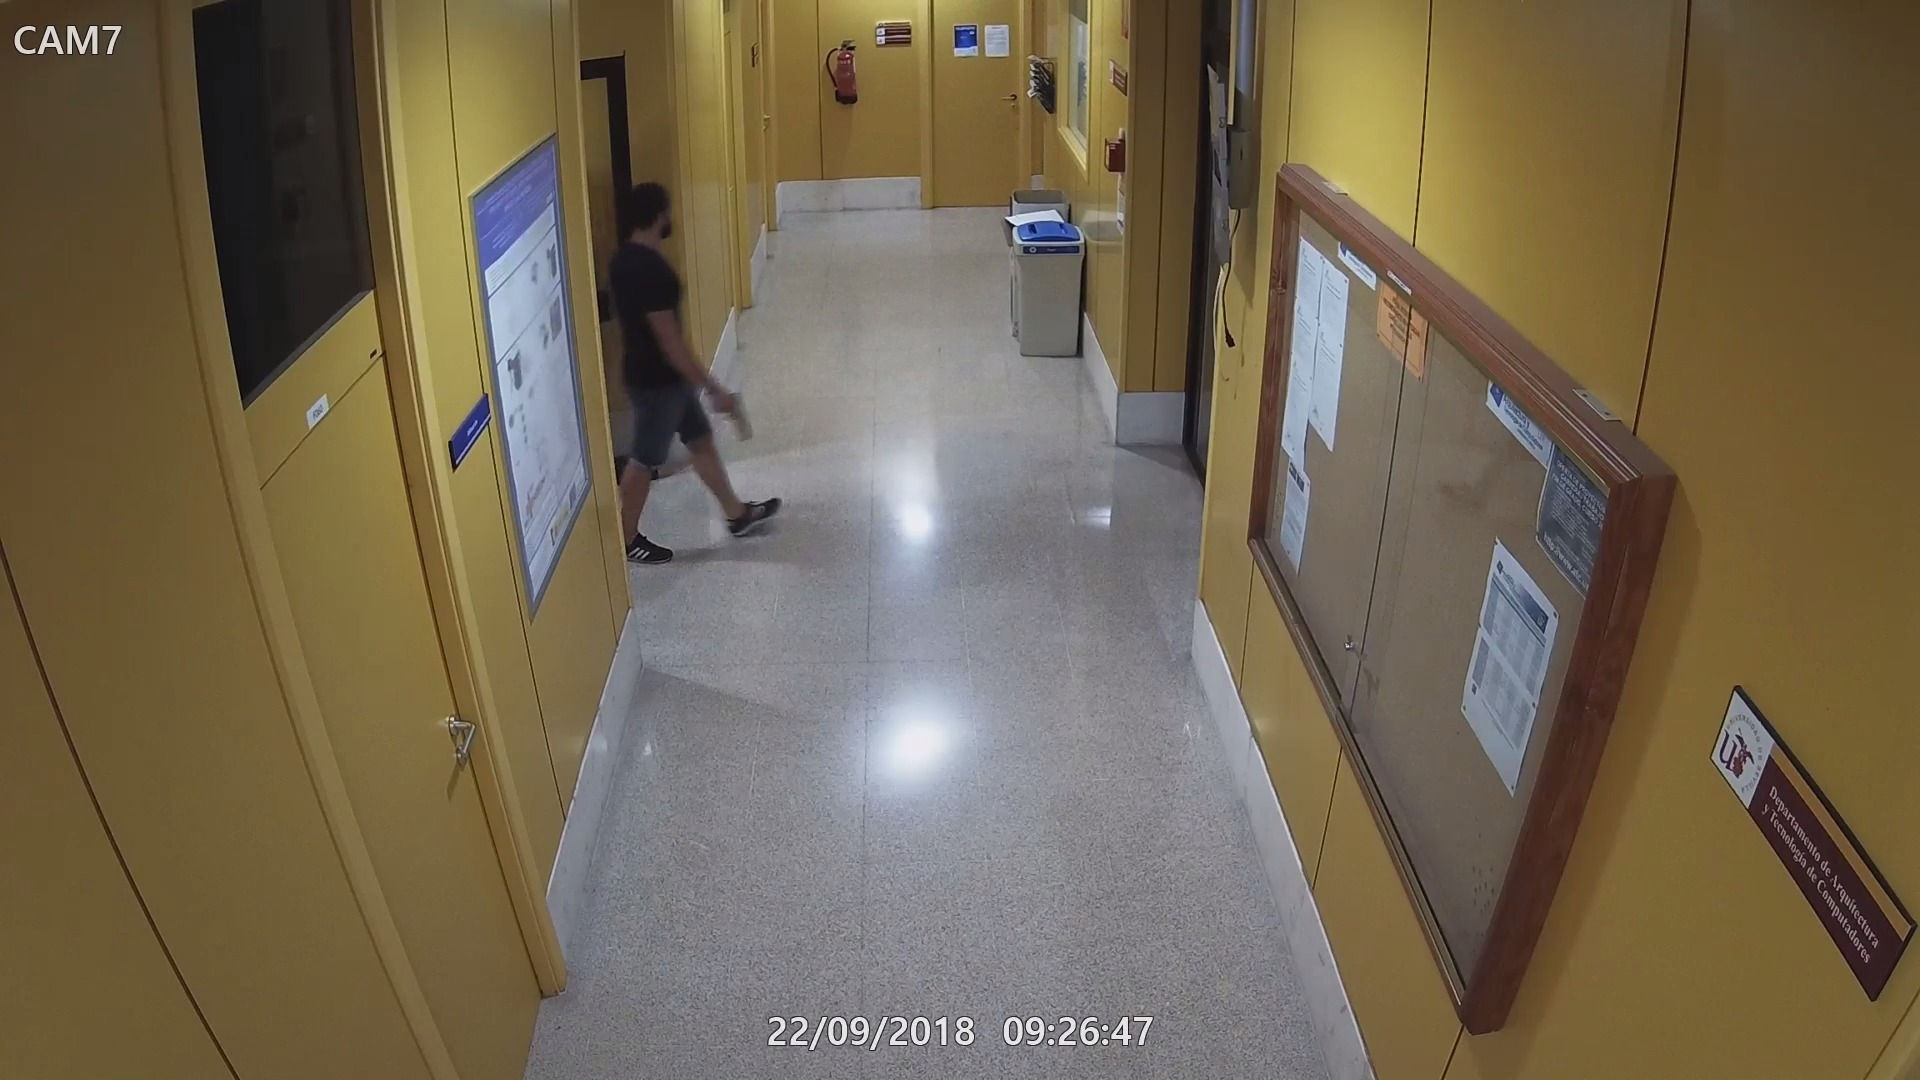Handgun: (707, 386, 756, 440)
